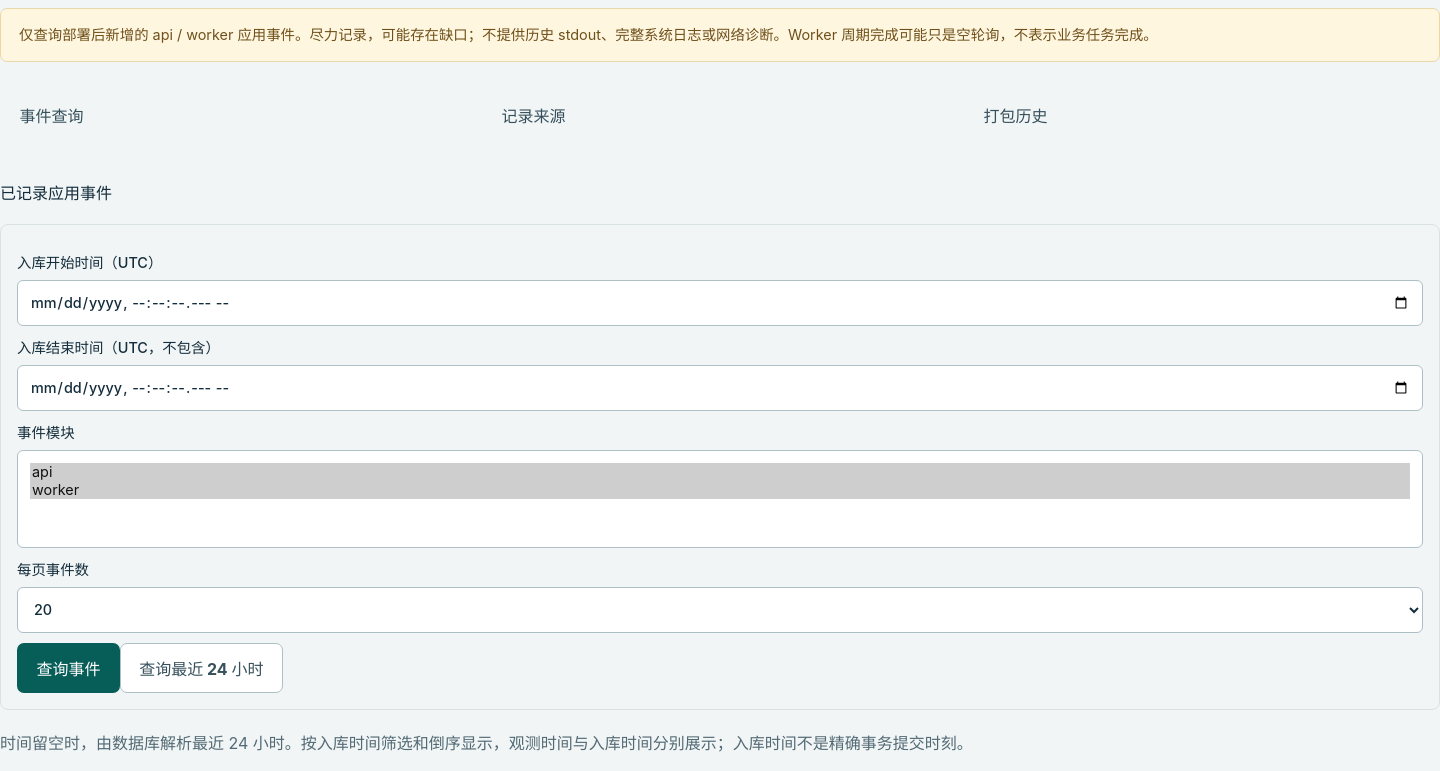
Test case: operational journal UI and interruption safety › discards a pending ZIP after navigation even if download ignores abort
Click the button "打包历史" at (1015, 116), box [964, 90, 1439, 140]
(page scrolled)
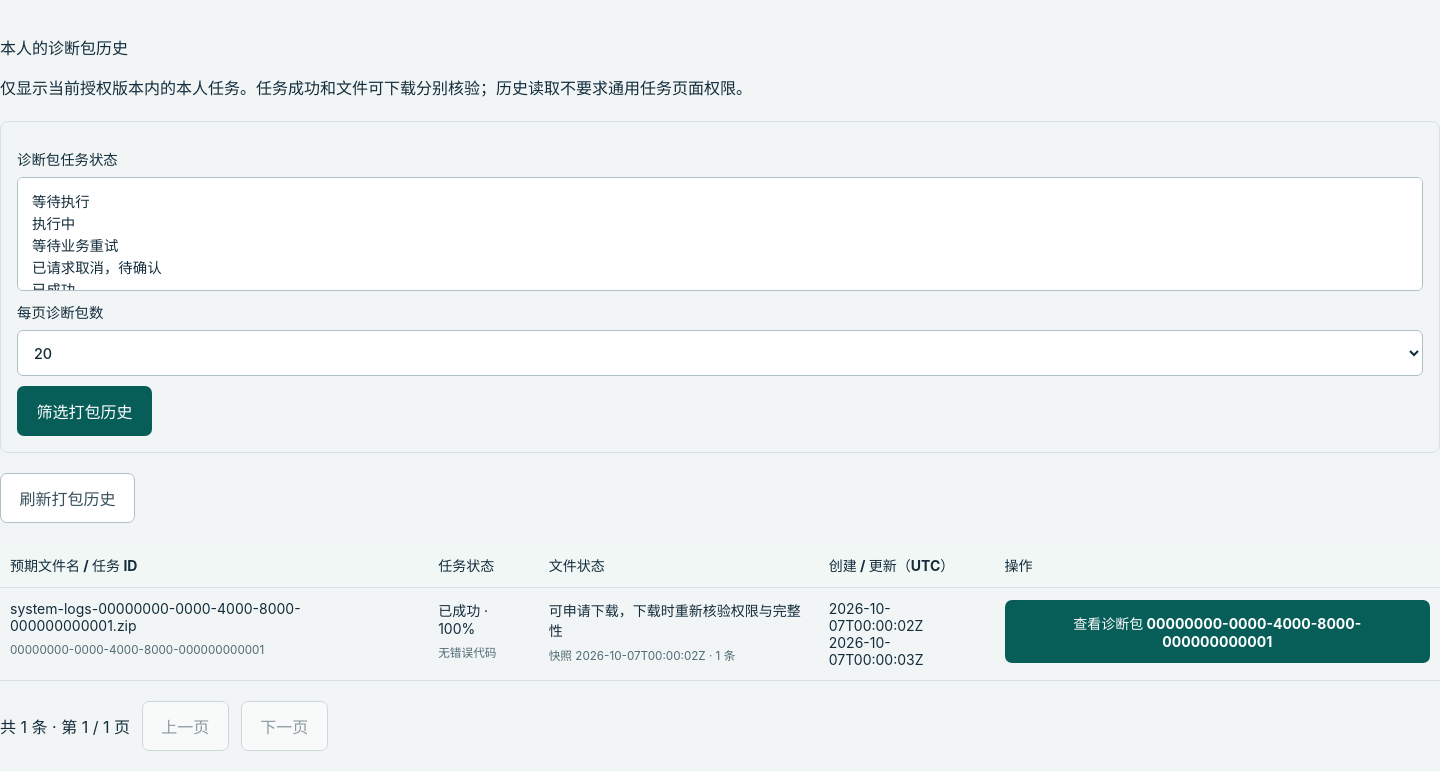
Check: the table named "诊断包历史记录" is shown, box [0, 543, 1439, 681]
Click the button "查看诊断包 00000000-0000-4000-8000-000000000001" at (1217, 632), box [1004, 600, 1430, 663]
(page scrolled)
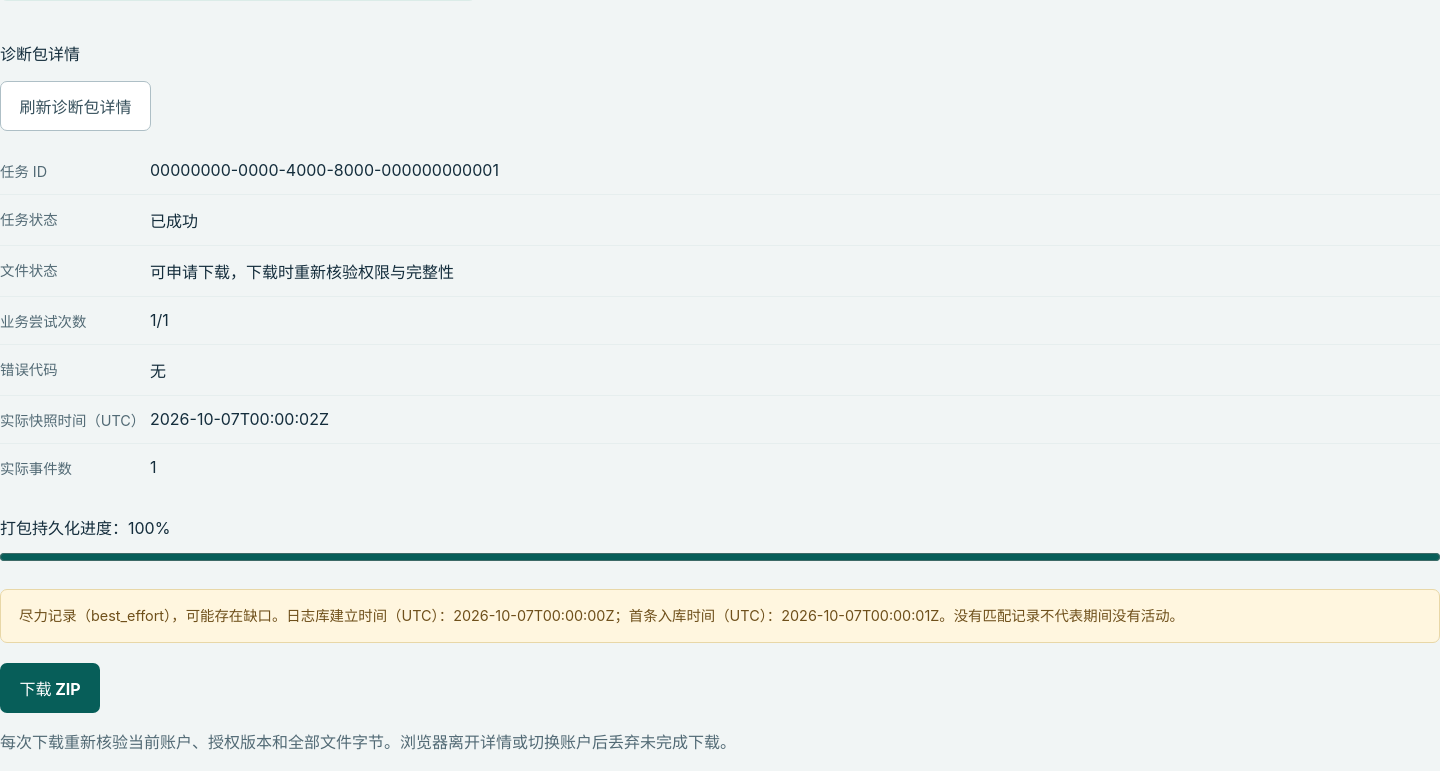
Check: the button "下载 ZIP" is shown
Click the button "下载 ZIP" at (50, 688), box [0, 662, 100, 712]
(page scrolled)
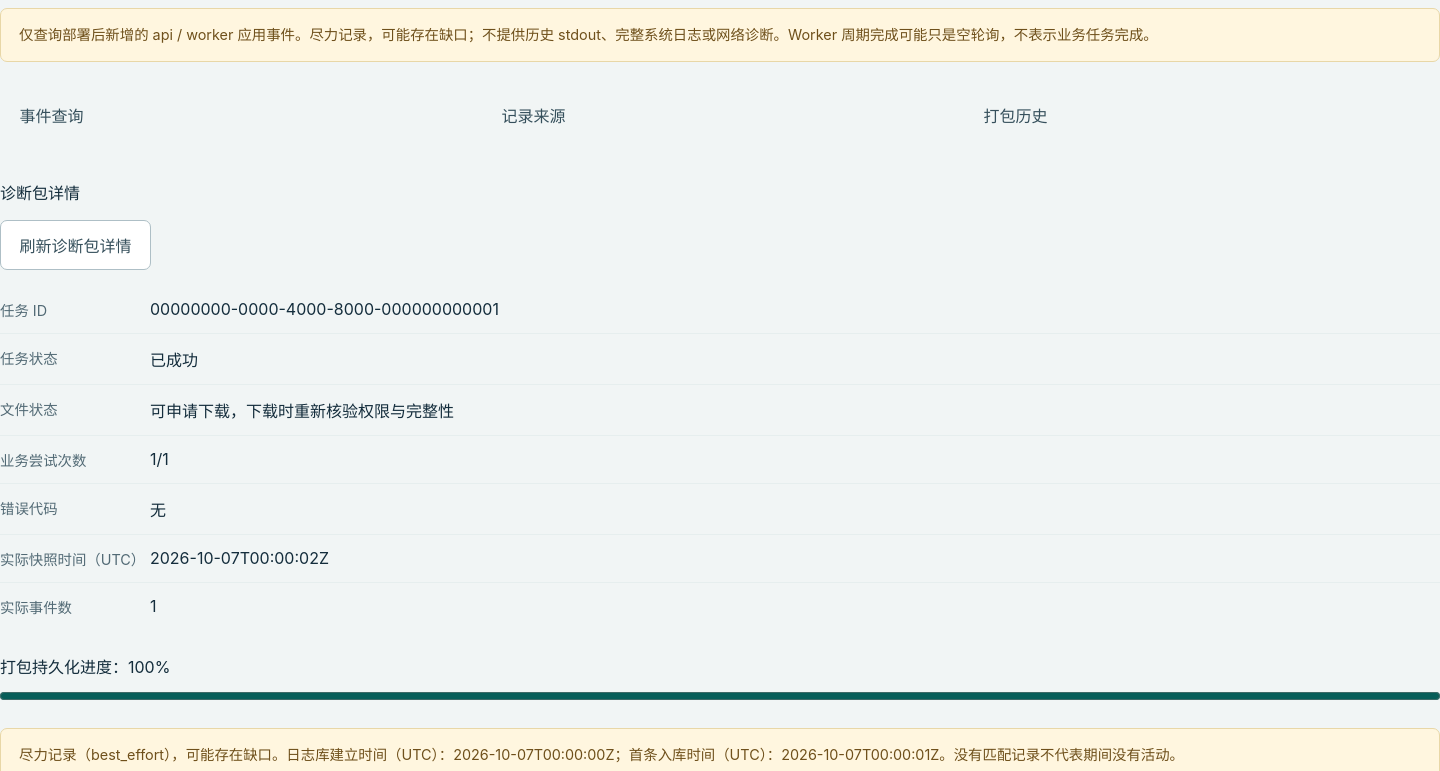
Click the button "打包历史" at (1015, 116), box [964, 90, 1439, 140]
(page scrolled)
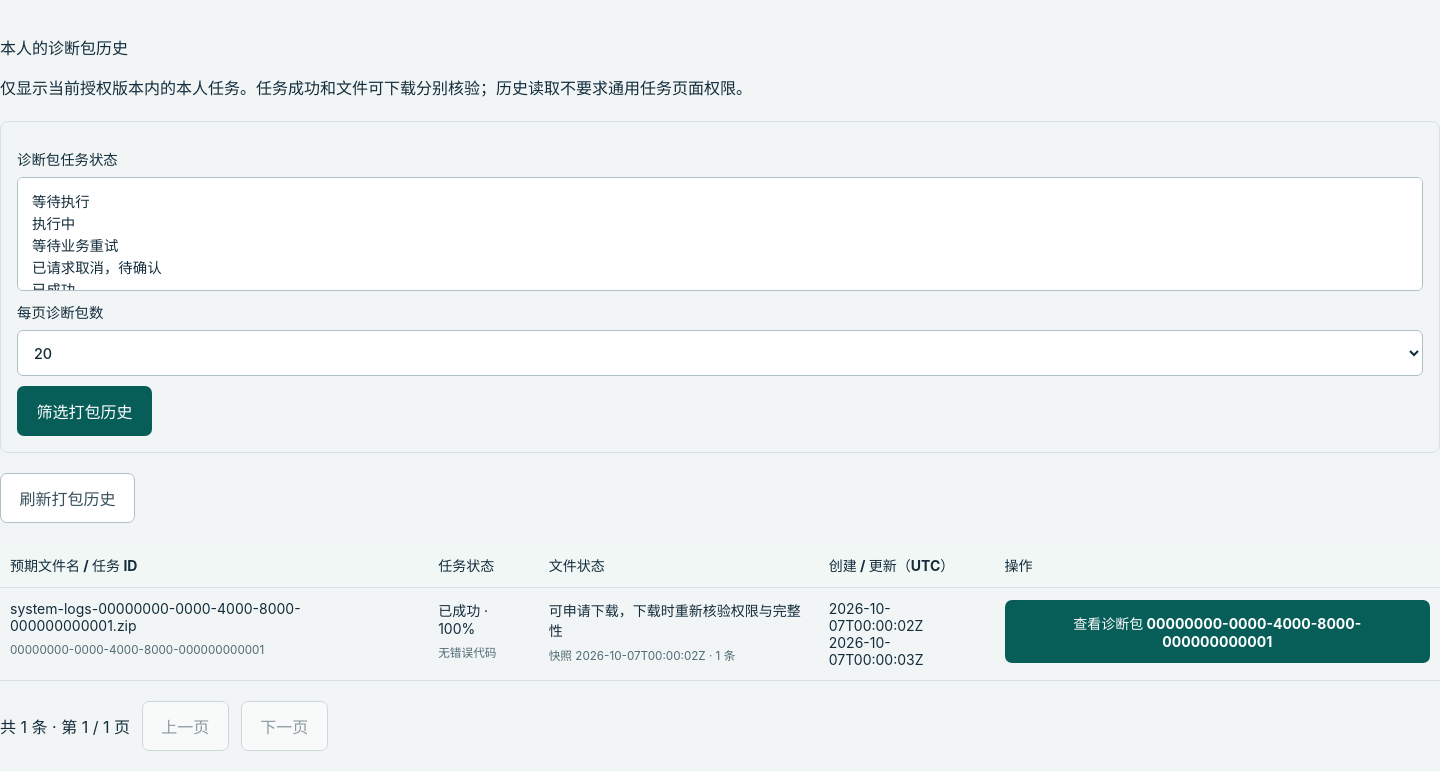
Check: the table named "诊断包历史记录" is shown, box [0, 543, 1439, 681]
